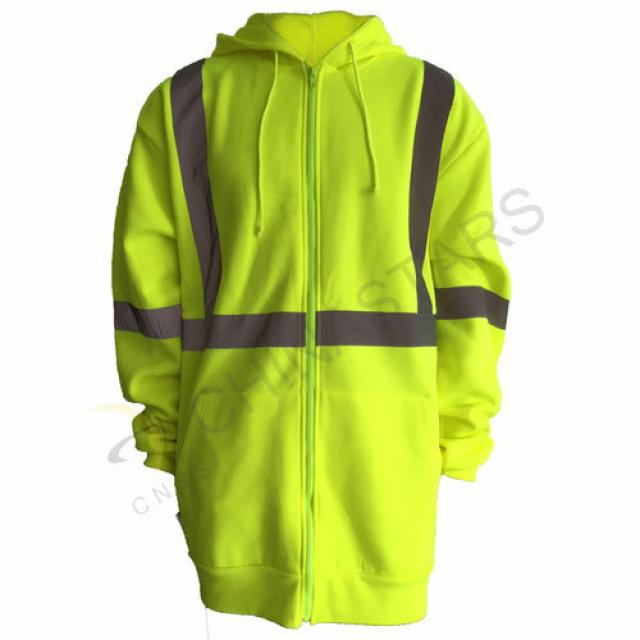Reflective-Jacket: (92, 5, 529, 640)
